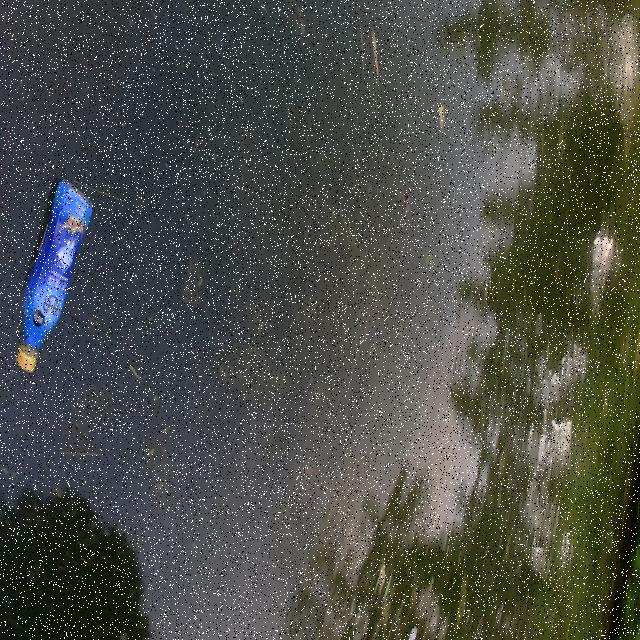Bottle: (14, 173, 95, 373)
